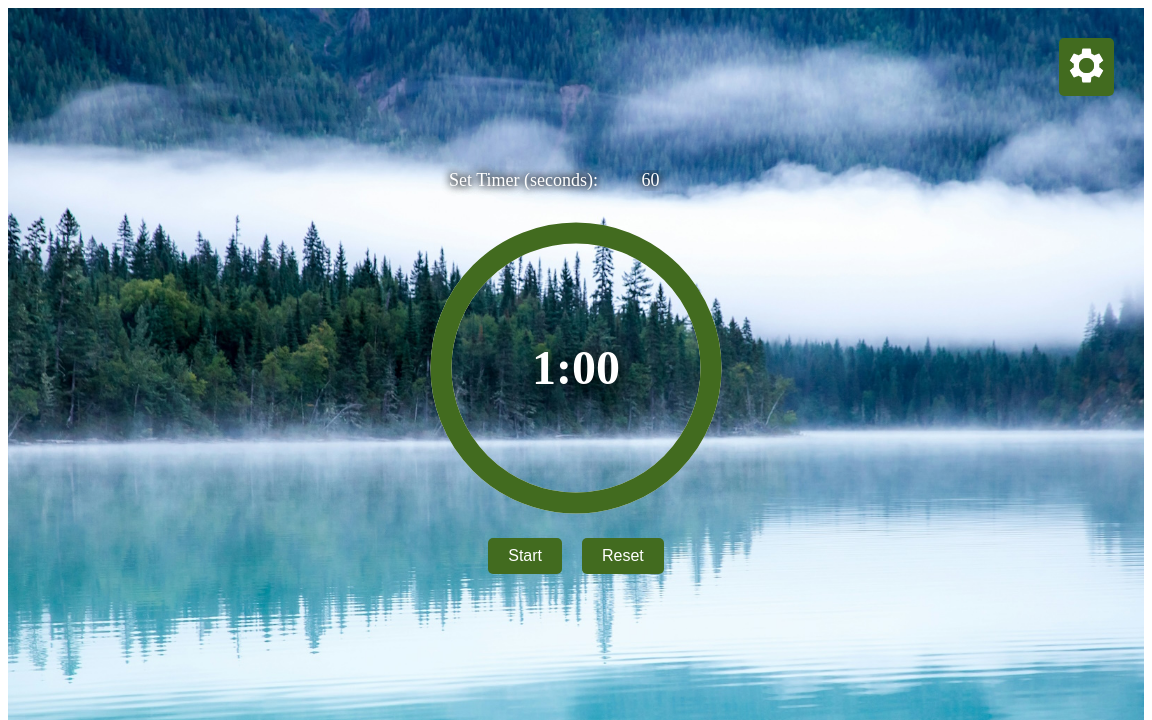
Test case: Timer Component › disables the Start button when the timer starts
What coordinates should you click on to do the following:
click the button "Start"
I would click on:
 (525, 556)
Its box is [488, 538, 562, 574].
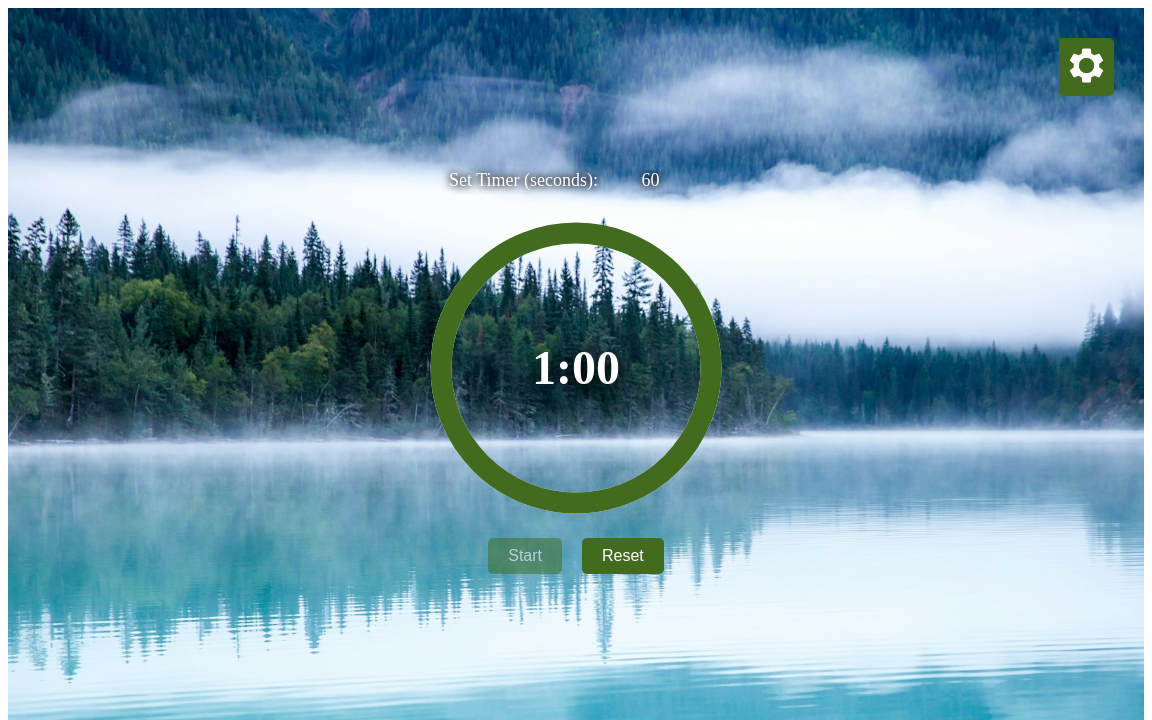
Now the button "Start" is disabled, box [488, 538, 562, 574]
